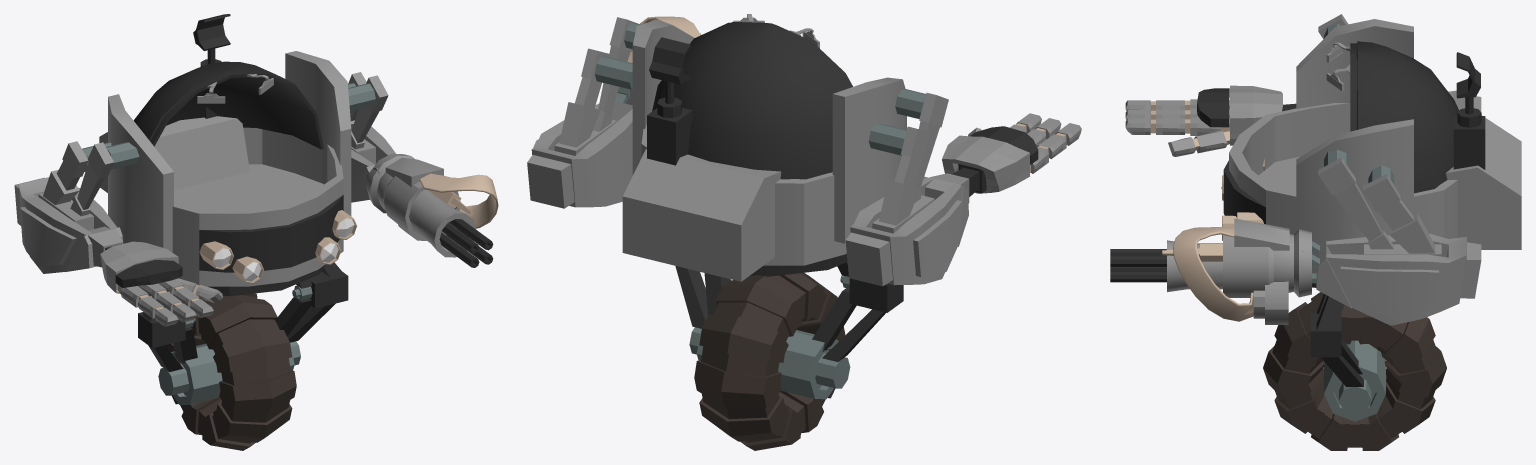
The model's file is RoboGra_zaj 1.fbx.
3 views of the same model, side by side, from view 1: azimuth 30°, elevation 25°; view 2: azimuth 150°, elevation 25°; view 3: azimuth 270°, elevation 25° (orthographic). The views are drawn at different scales.
Parts seen in each view (by area): view 1: robot, robot.002, Cube.001, NurbsPath, antena, Cube.007, Cube.005, Cube.009, Cube.002, Cube.011; view 2: robot, Cube.001, antena, Cube.007, NurbsPath; view 3: robot, robot.002, Cube.001, NurbsPath, antena, Cube.009, Cube.011, Cube.005, Cube.007, Cube.002.
Boxes of the visible parts, x1,y1,x2,y2 form: robot: [14, 51, 395, 450]; robot.002: [366, 153, 493, 267]; Cube.001: [88, 226, 182, 293]; NurbsPath: [419, 173, 498, 228]; antena: [193, 14, 230, 118]; Cube.007: [120, 286, 178, 326]; Cube.005: [138, 283, 196, 322]; Cube.009: [159, 279, 213, 317]; Cube.002: [197, 74, 273, 103]; Cube.011: [176, 278, 222, 303]; robot: [527, 17, 968, 450]; Cube.001: [925, 126, 1038, 203]; antena: [647, 37, 692, 165]; Cube.007: [1030, 123, 1081, 173]; NurbsPath: [627, 16, 700, 62]; robot: [1221, 14, 1521, 450]; robot.002: [1110, 218, 1319, 324]; Cube.001: [1197, 85, 1296, 145]; NurbsPath: [1173, 227, 1254, 321]; antena: [1453, 52, 1485, 169]; Cube.009: [1125, 117, 1220, 135]; Cube.011: [1168, 130, 1227, 156]; Cube.005: [1125, 108, 1198, 119]; Cube.007: [1125, 99, 1197, 110]; Cube.002: [1326, 42, 1350, 91].
Size of the model in its own units: 708 by 692 by 633.
